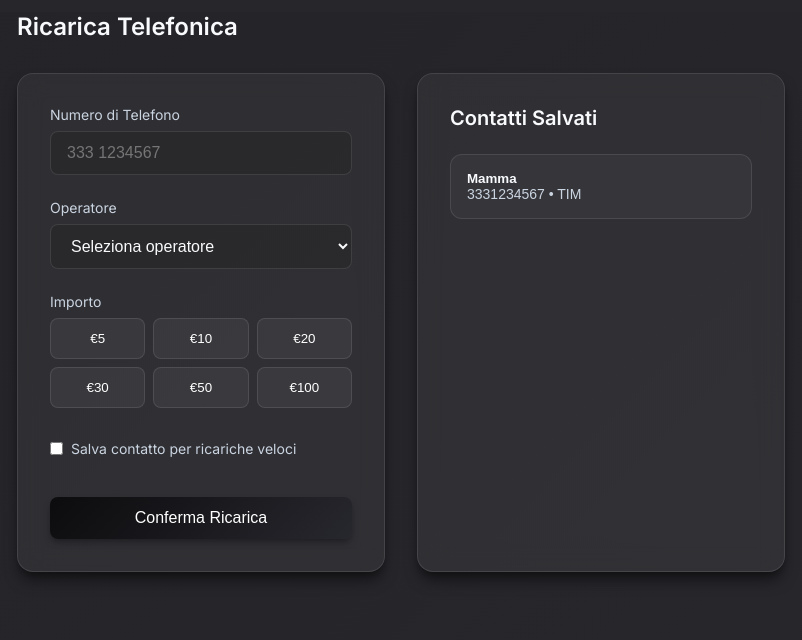
Scenario: PhoneTopUp Page › shows error when top up fails
This screenshot has width=802, height=640.
Type "3339999999" into the field labelled "Numero di Telefono".
click(201, 153); type("3339999999")  # box [50,131,352,175]
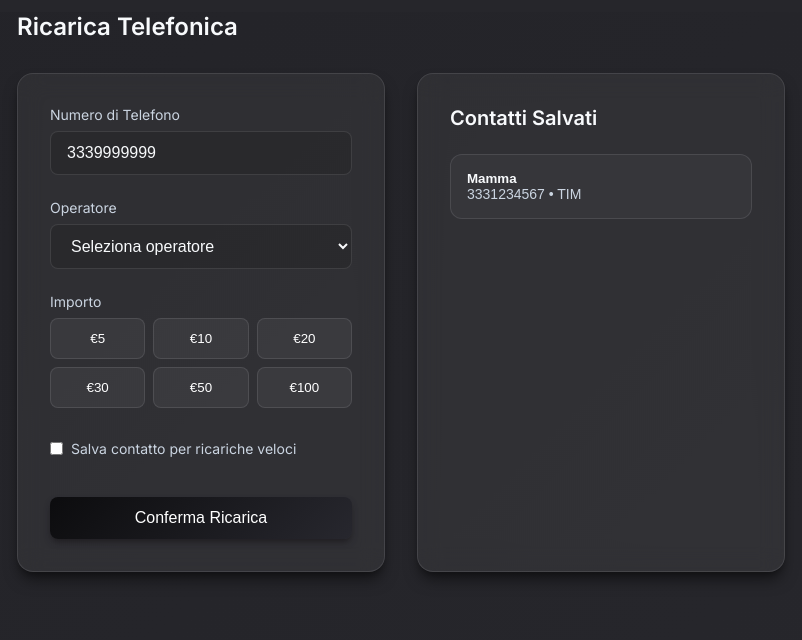
Select "Vodafone" in the dropdown labelled "Operatore" at [201, 246], box [50,224,352,269]
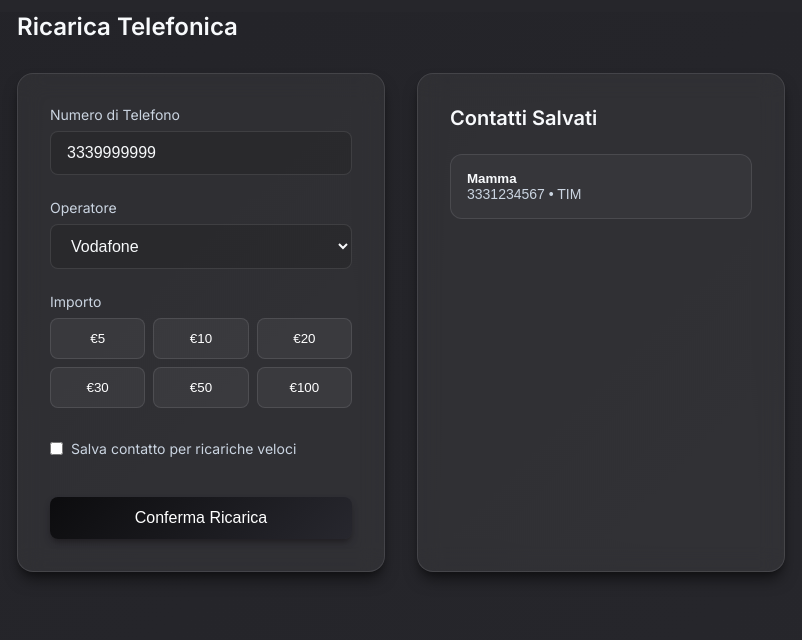
Click the button "€20".
click(304, 338)  # box [257,318,352,359]
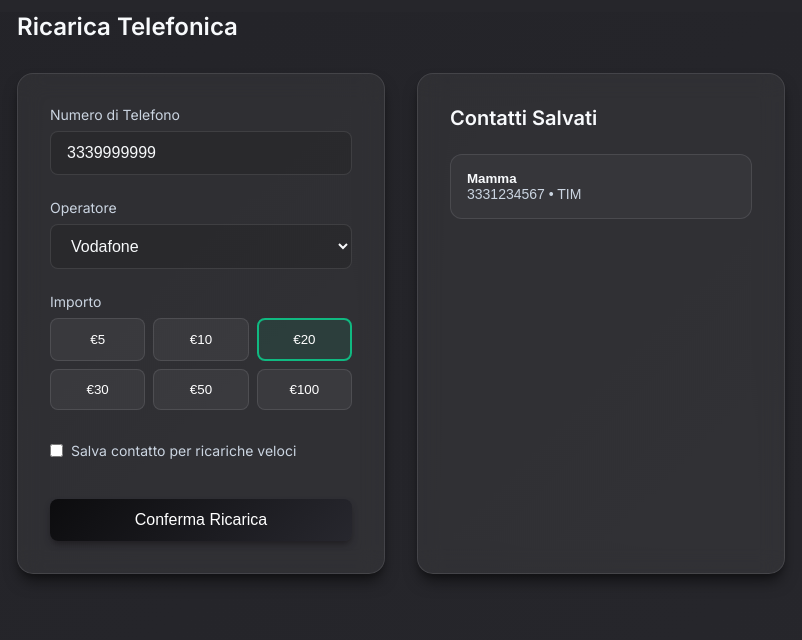
Click the button "Conferma Ricarica".
click(201, 520)  # box [50,499,352,541]
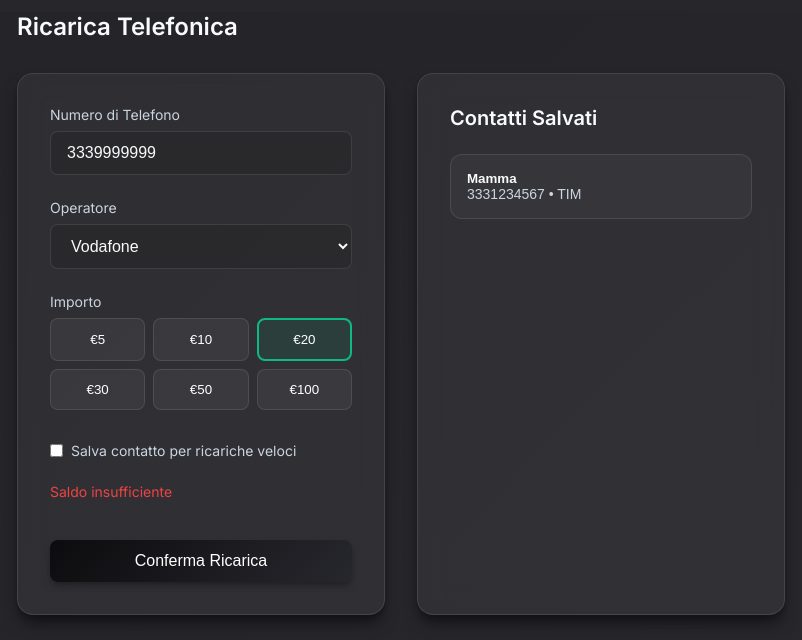
Now the text "Saldo insufficiente" is shown, box [50,483,172,500]
